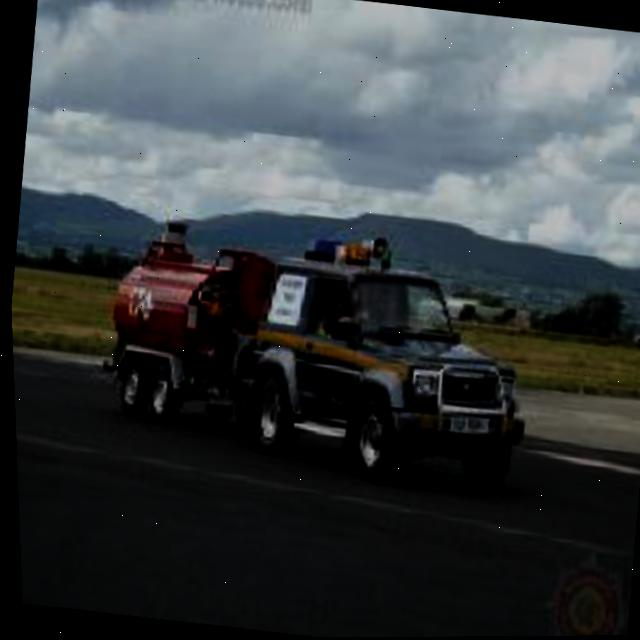emergency: (89, 199, 550, 518)
